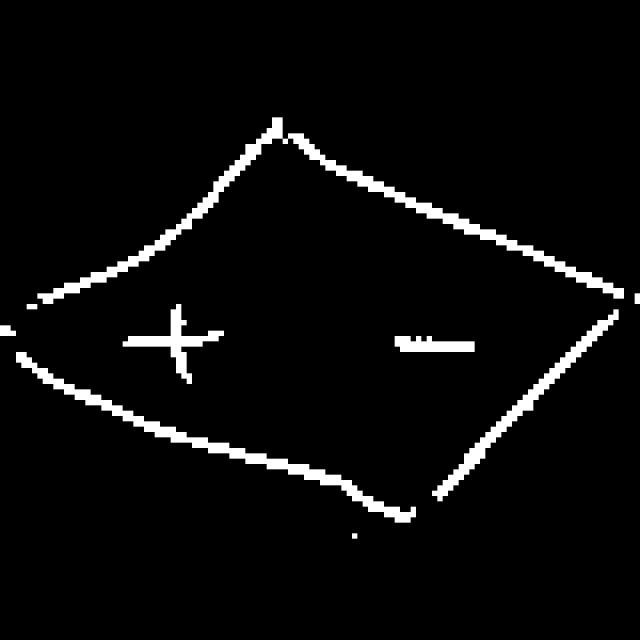dependant_voltage: (11, 135, 626, 535)
